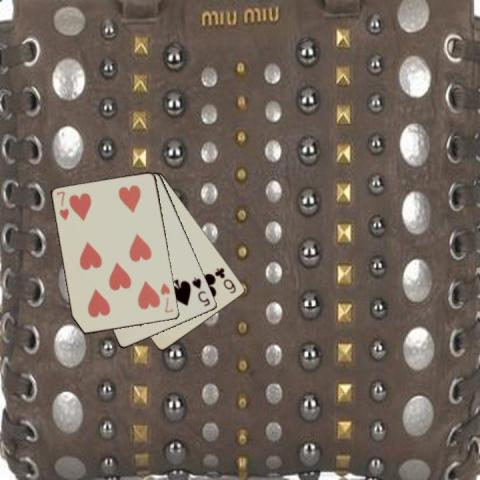5s: (190, 274, 212, 308)
6c: (212, 265, 237, 295)
7h: (157, 280, 175, 314), (54, 188, 71, 222)
